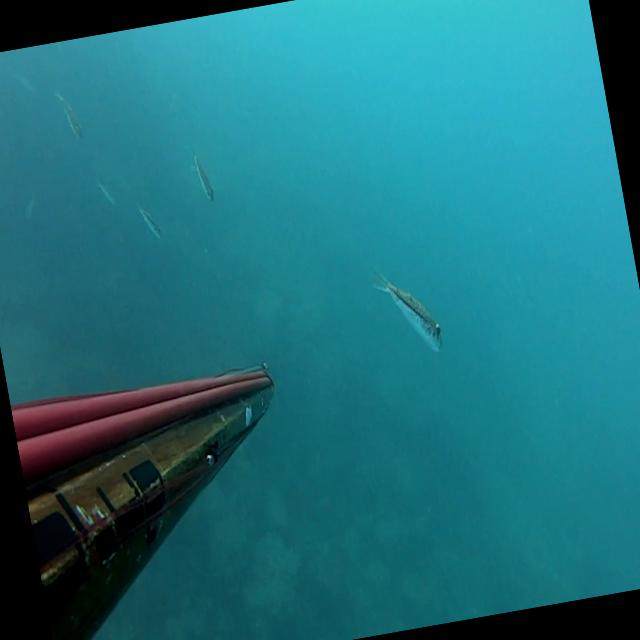Balon Baligi: (369, 258, 444, 361), (55, 88, 83, 141), (192, 148, 215, 204), (138, 202, 162, 240), (97, 178, 115, 206)
